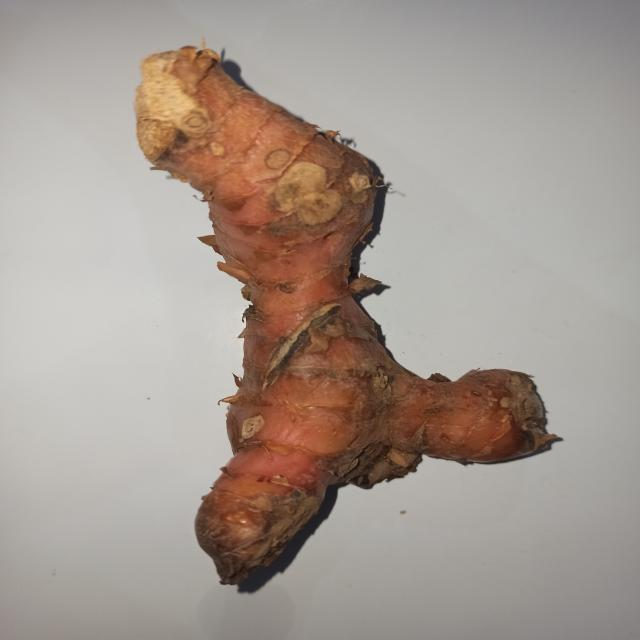ginger: (138, 50, 550, 566)
